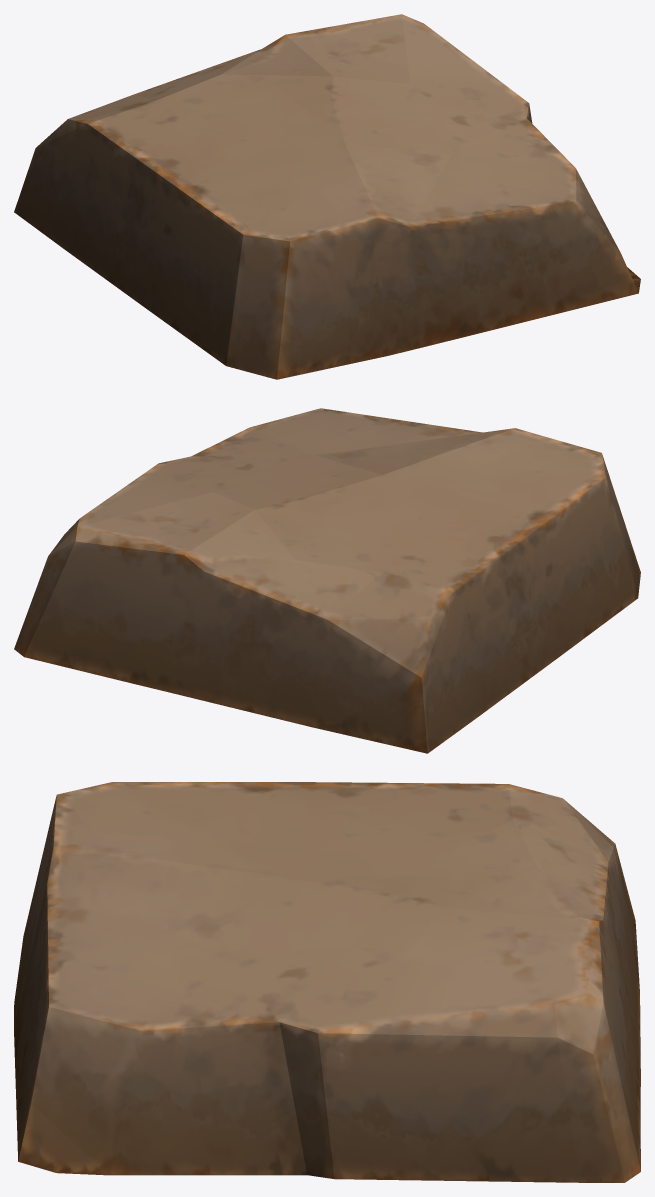
Rendered from DesertPebble_Square_1.obj.
3 views of the same model, one above another, from view 1: azimuth 30°, elevation 25°; view 2: azimuth 150°, elevation 25°; view 3: azimuth 270°, elevation 25° (orthographic). The views are drawn at different scales.
Visible parts, largest first — view 1: DesertPebble_Square_1; view 2: DesertPebble_Square_1; view 3: DesertPebble_Square_1.
Part boxes in pixels (x1,y1,x2,y2): DesertPebble_Square_1: (14, 14, 640, 379); DesertPebble_Square_1: (14, 408, 640, 753); DesertPebble_Square_1: (14, 782, 640, 1182).
Bounding box in the file's own units: 0.4346 × 0.1299 × 0.4396.
1 material, 1 textured.
